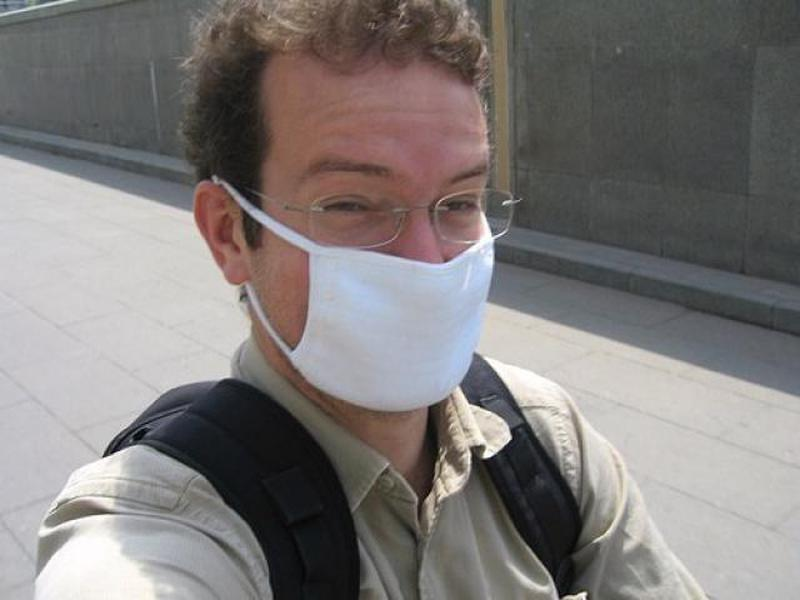with_mask: (183, 1, 507, 415)
